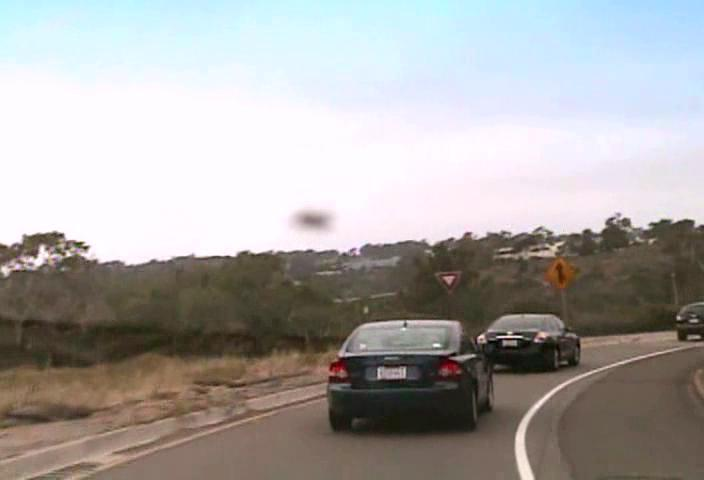merge: (542, 254, 575, 292)
